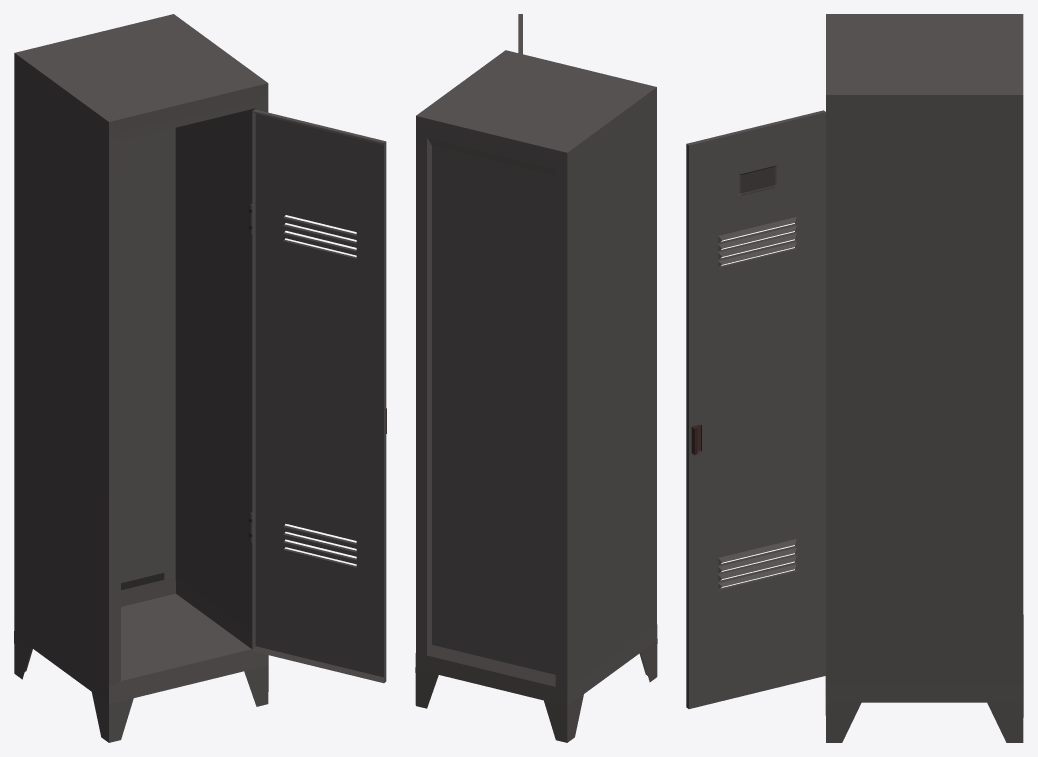
File: LockerClosingAni.fbx
The picture shows the model from 3 angles, left to right: view 1: azimuth 30°, elevation 25°; view 2: azimuth 150°, elevation 25°; view 3: azimuth 270°, elevation 25°; orthographic projection. The views are drawn at different scales.
Visible parts, largest first — view 1: LockerClosingAni, Locker_scharnieren_locker1; view 2: LockerClosingAni; view 3: LockerClosingAni, Locker_scharnieren_locker1.
Boxes of the visible parts, x1,y1,x2,y2 form: LockerClosingAni: [14, 14, 268, 742]; Locker_scharnieren_locker1: [248, 109, 386, 683]; LockerClosingAni: [415, 50, 657, 742]; LockerClosingAni: [825, 14, 1023, 742]; Locker_scharnieren_locker1: [686, 110, 825, 708].
Bounding box in the file's own units: 4.06 × 11.19 × 5.28.
